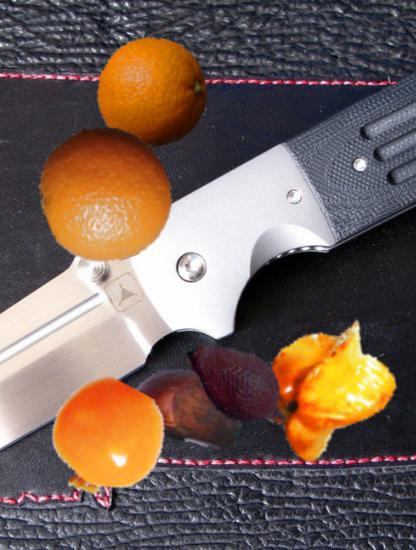Carambula: (252, 313, 402, 463)
Chestnut: (127, 345, 248, 466)
Orange: (37, 126, 174, 263), (97, 38, 209, 150)
Physalis: (46, 381, 166, 501)
Salak: (178, 325, 299, 446)
